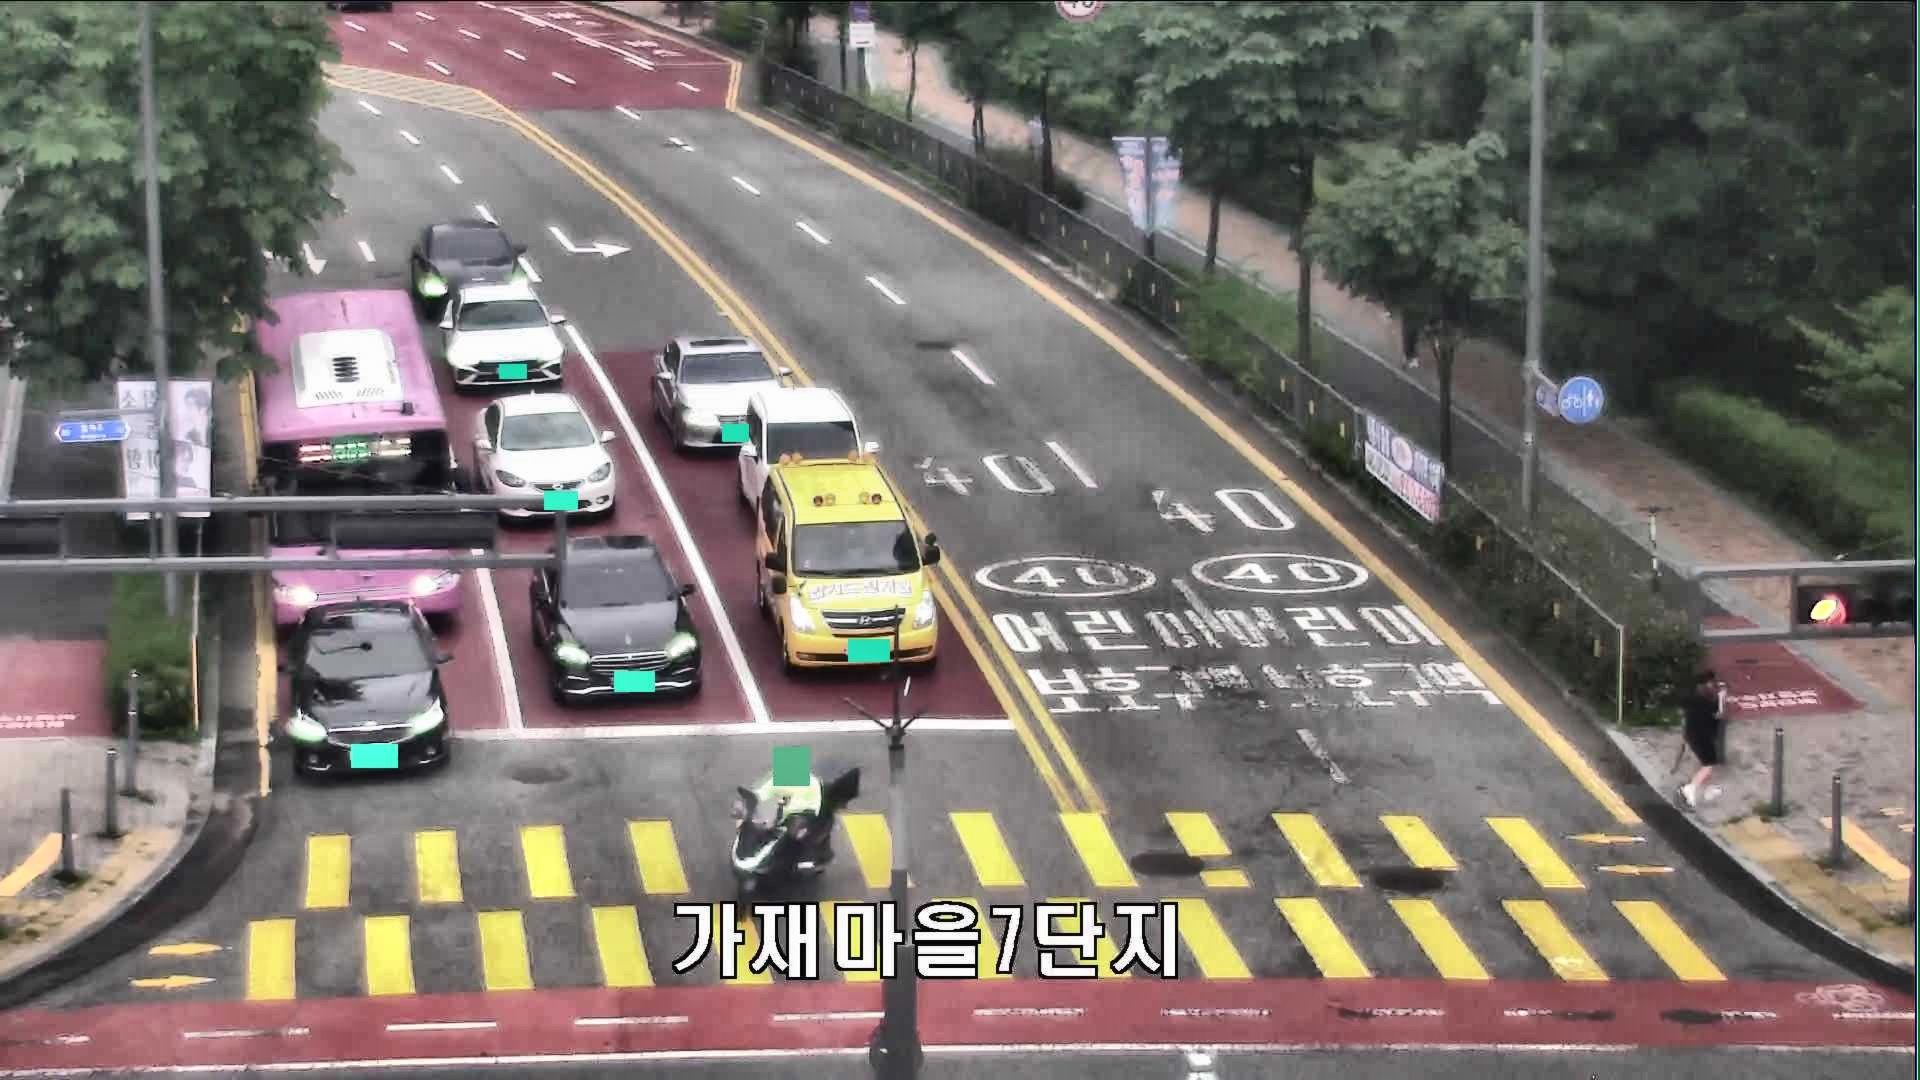sidewalk: (1679, 673, 1731, 808)
